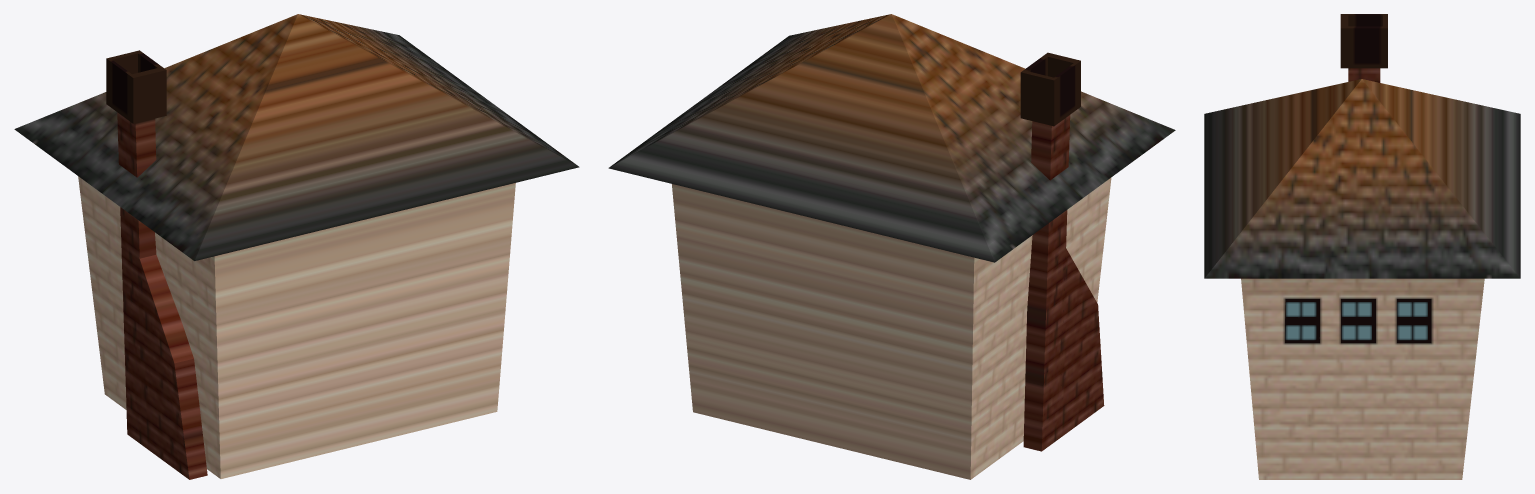
The model's file is House5.glb.
3 renders of one model, left to right at view 1: azimuth 30°, elevation 25°; view 2: azimuth 150°, elevation 25°; view 3: azimuth 270°, elevation 25°, orthographic. The views are drawn at different scales.
Parts seen in each view (by area): view 1: House5; view 2: House5; view 3: House5.
Part boxes in pixels (<box>): House5: <box>14,14,579,479</box>; House5: <box>608,14,1175,479</box>; House5: <box>1204,14,1520,479</box>.
Bounding box in the file's own units: 109 × 105 × 88.14.
1 material, 1 textured.
